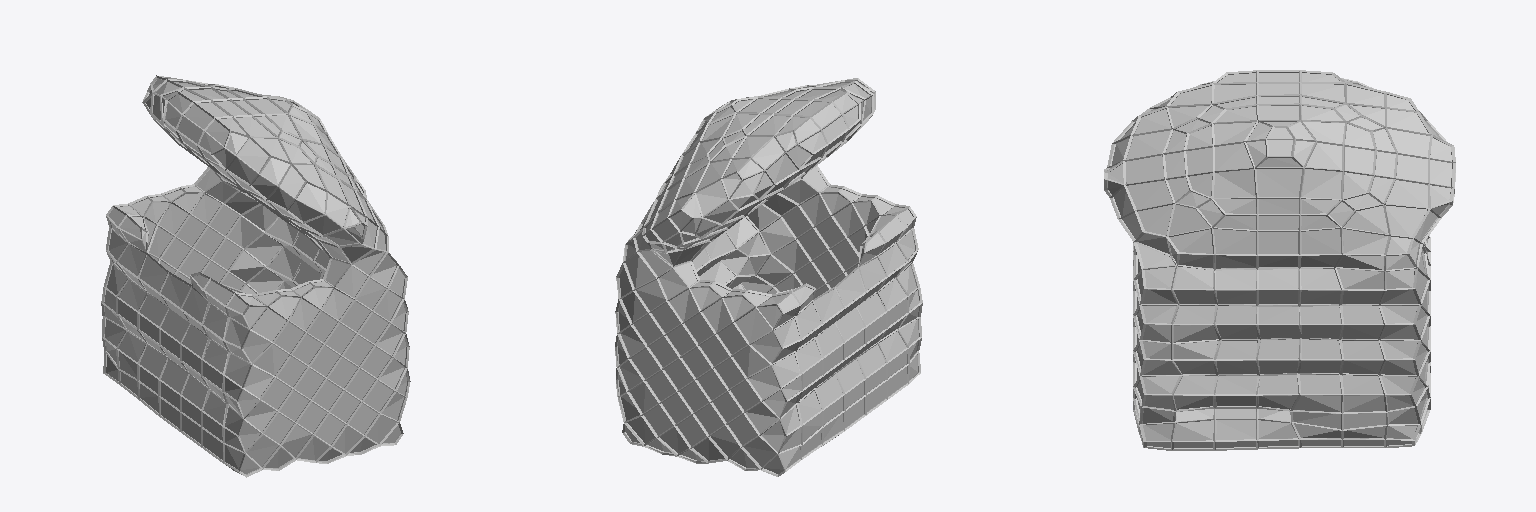
Rendered from chest2.obj.
The picture shows the model from 3 angles: view 1: azimuth 30°, elevation 25°; view 2: azimuth 150°, elevation 25°; view 3: azimuth 270°, elevation 25°; orthographic projection.
Visible parts, largest first — view 1: Cone; view 2: Cone; view 3: Cone.
Boxes of the visible parts, x1,y1,x2,y2 form: Cone: [101, 75, 410, 477]; Cone: [615, 78, 922, 476]; Cone: [1104, 70, 1455, 450].
Bounding box in the file's own units: 2.06 × 3.59 × 3.58.